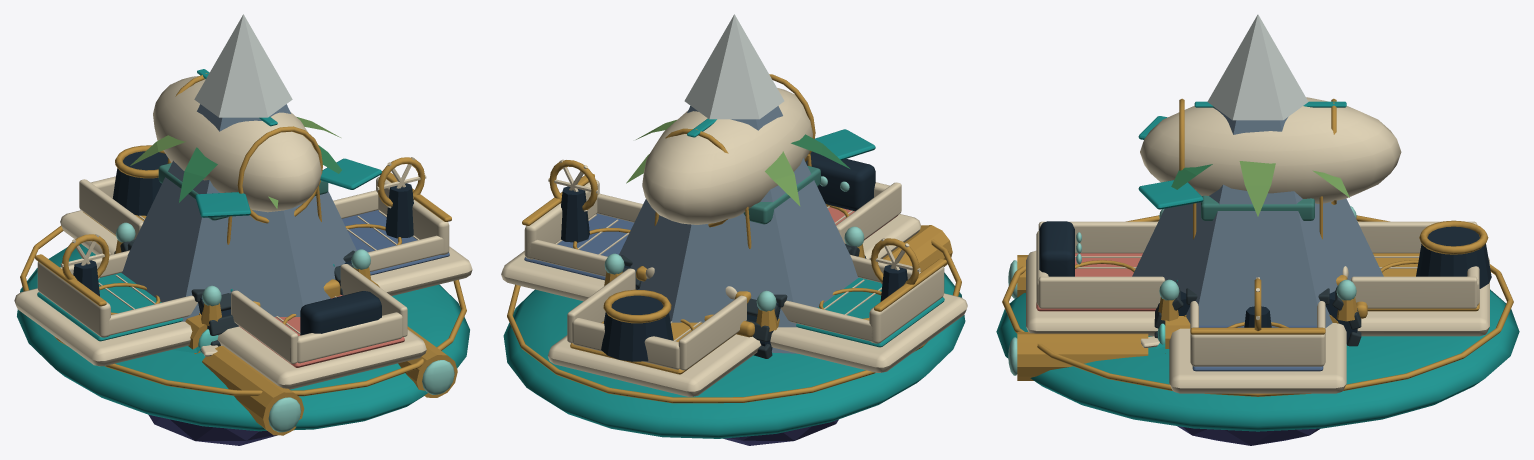
The model's file is tiny-worlds.glb.
3 views of the same model, side by side, from view 1: azimuth 30°, elevation 25°; view 2: azimuth 150°, elevation 25°; view 3: azimuth 270°, elevation 25° (orthographic). The views are drawn at different scales.
Parts seen in each view (by area): view 1: ark_hull, mountain, airship, ark_controls, palm, island_cosmic, truck, ship, temple; view 2: ark_hull, mountain, airship, ark_controls, palm, truck, island_cosmic, temple; view 3: ark_hull, mountain, airship, ark_controls, palm, truck, island_cosmic, temple, ship.
Part boxes in pixels (left/top/right/bottom): ark_hull: left=14, top=171, right=472, bottom=435; mountain: left=121, top=14, right=356, bottom=321; airship: left=153, top=69, right=381, bottom=291; ark_controls: left=60, top=145, right=426, bottom=335; palm: left=130, top=117, right=341, bottom=208; island_cosmic: left=148, top=415, right=277, bottom=445; truck: left=114, top=239, right=354, bottom=346; ship: left=172, top=264, right=379, bottom=354; temple: left=158, top=163, right=328, bottom=220; ark_hull: left=501, top=174, right=967, bottom=438; mountain: left=619, top=14, right=858, bottom=353; airship: left=636, top=74, right=875, bottom=303; ark_controls: left=548, top=151, right=920, bottom=361; palm: left=626, top=120, right=849, bottom=206; truck: left=621, top=243, right=866, bottom=358; island_cosmic: left=723, top=419, right=838, bottom=445; temple: left=743, top=165, right=820, bottom=224; ark_hull: left=996, top=206, right=1519, bottom=431; mountain: left=1132, top=14, right=1383, bottom=327; airship: left=1138, top=97, right=1401, bottom=285; ark_controls: left=1039, top=220, right=1491, bottom=330; palm: left=1171, top=161, right=1349, bottom=216; truck: left=1154, top=286, right=1367, bottom=346; island_cosmic: left=1177, top=426, right=1320, bottom=445; temple: left=1201, top=195, right=1314, bottom=220; ship: left=1155, top=271, right=1348, bottom=353.
Size of the model in its own units: 5.35 by 5.51 by 6.2.
